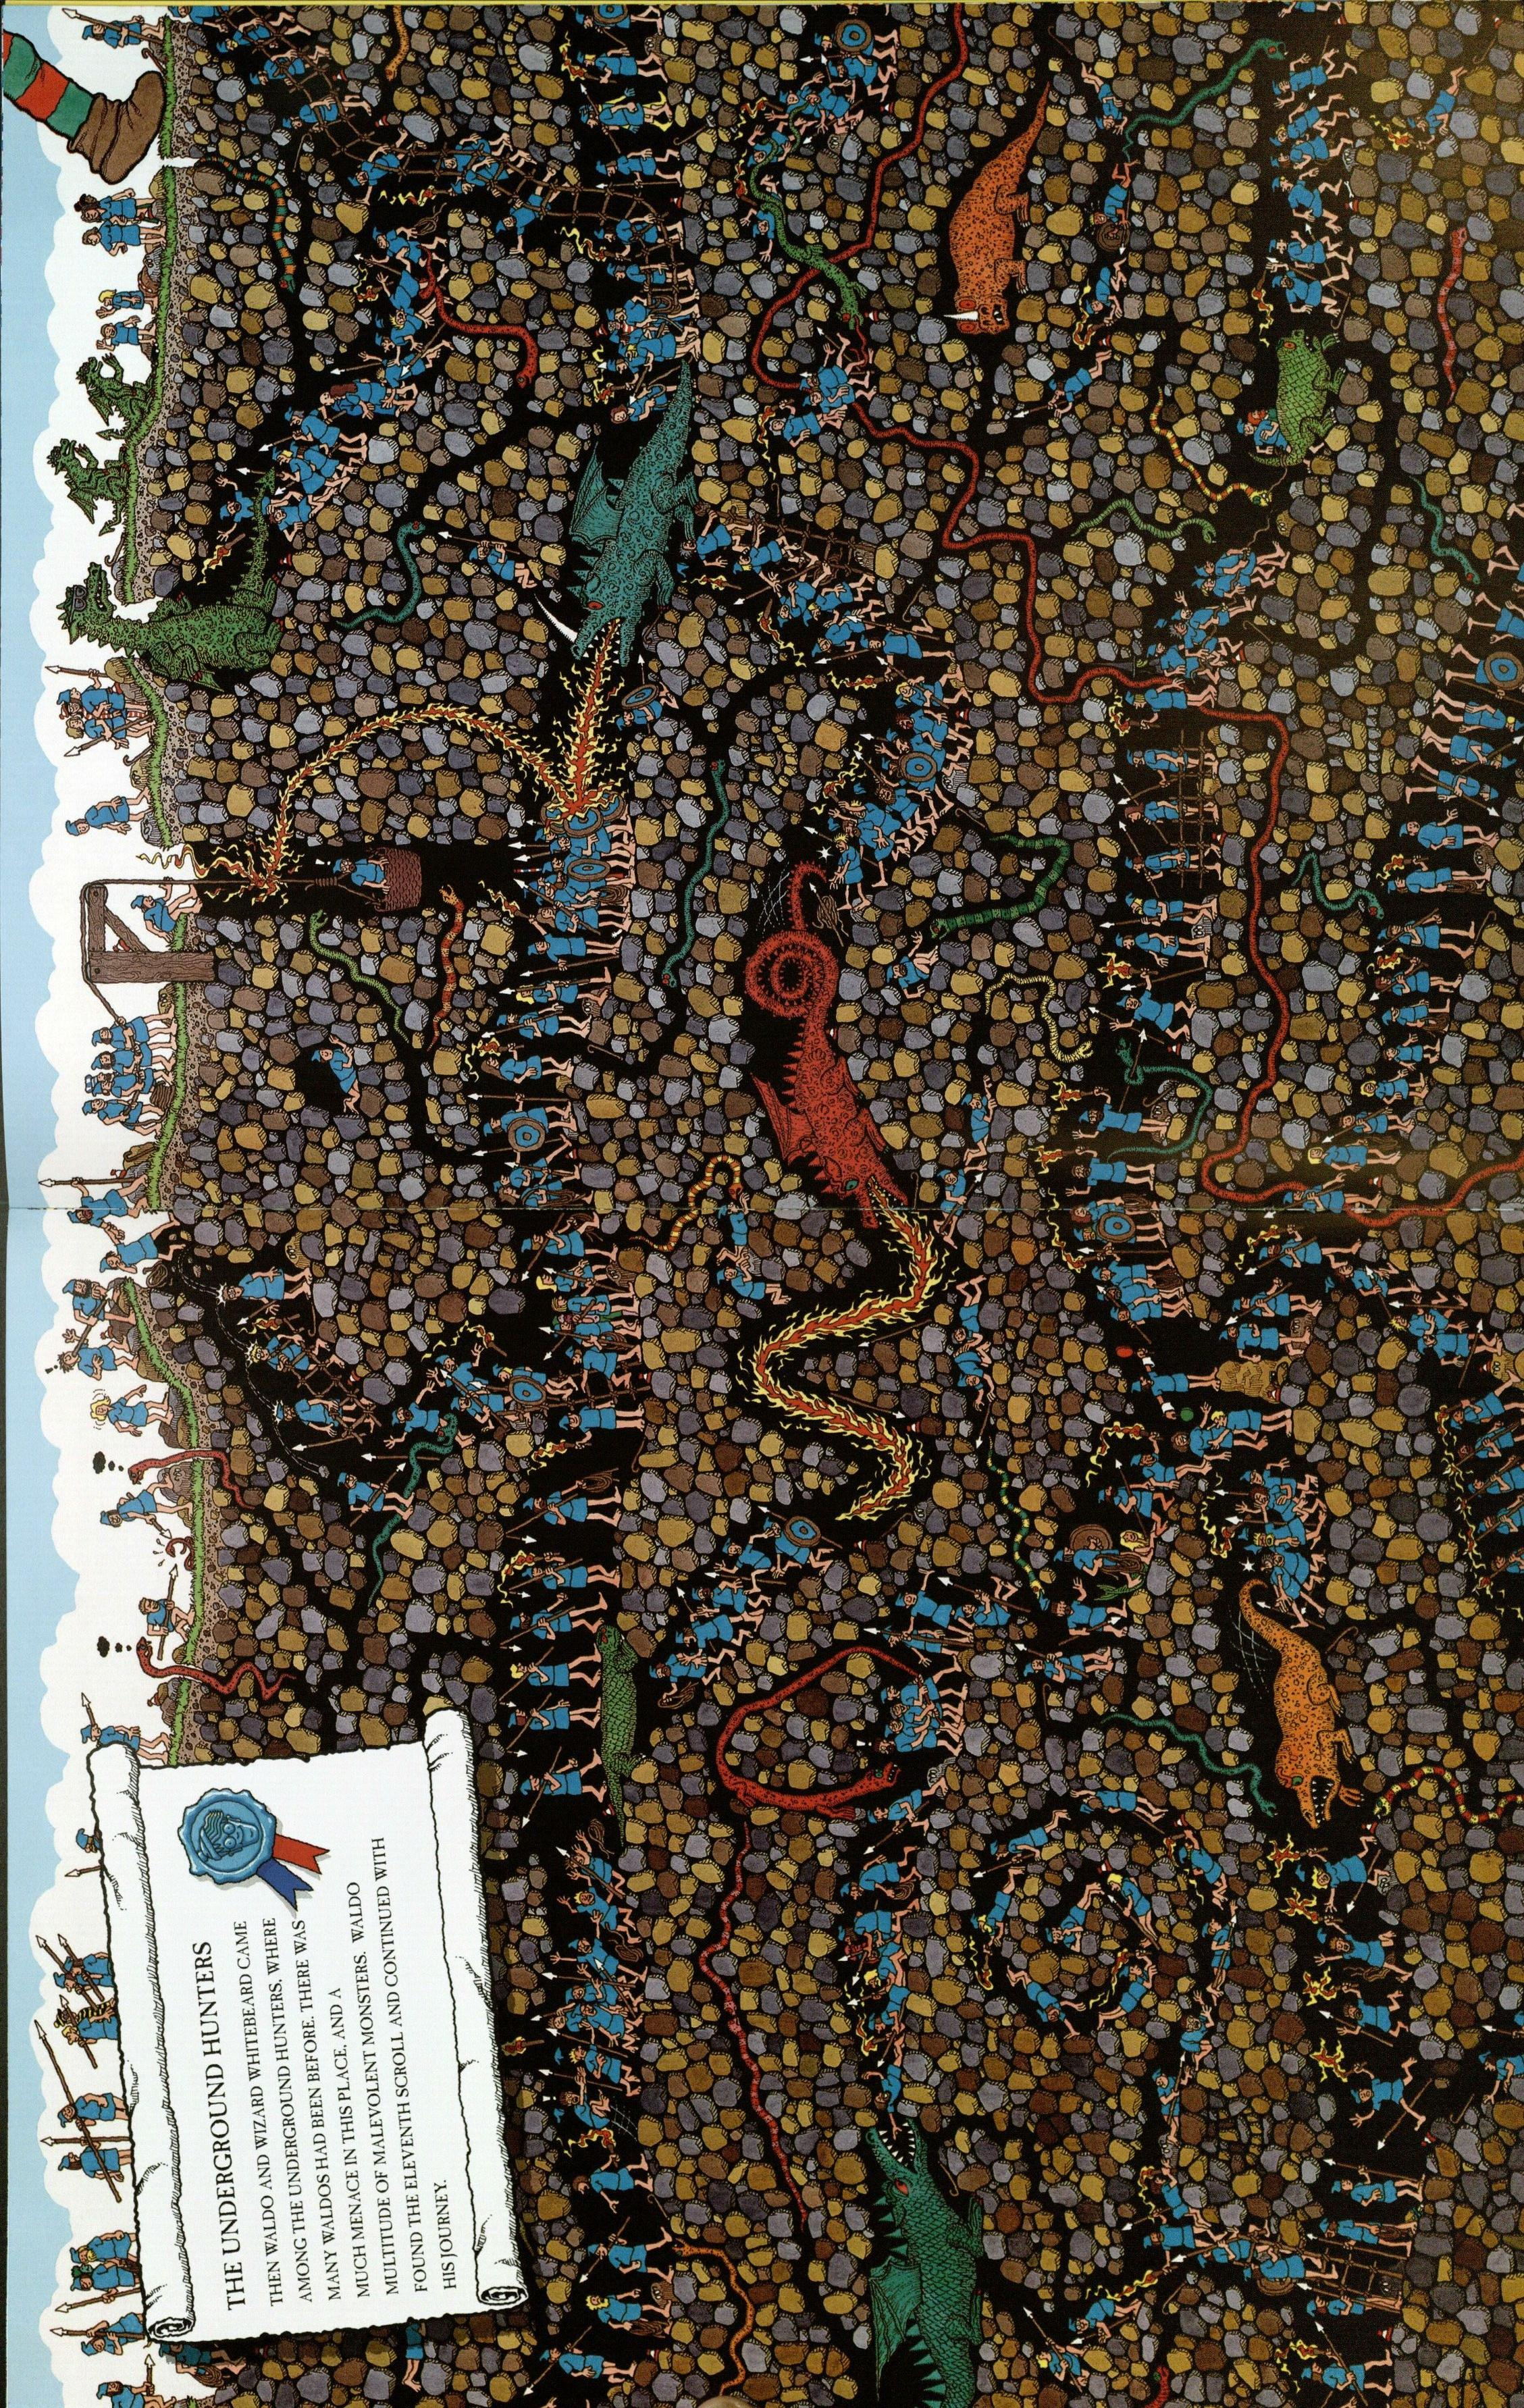waldos: (592, 311, 694, 340)
